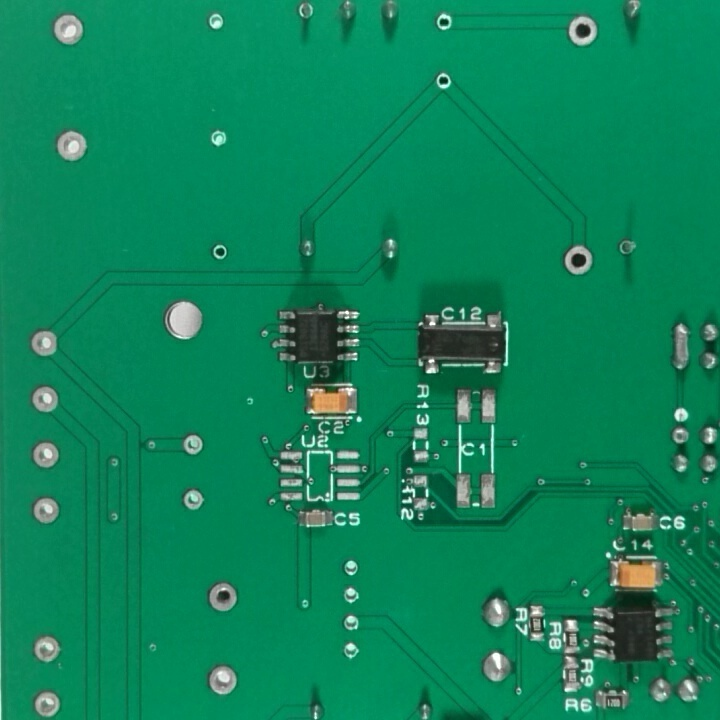F: (203, 659, 244, 700), (559, 243, 599, 281), (50, 9, 88, 48), (29, 630, 67, 668), (53, 126, 92, 163), (27, 382, 63, 420), (562, 14, 601, 49), (28, 438, 65, 474), (206, 578, 241, 616), (26, 328, 64, 360), (30, 495, 63, 529), (34, 686, 66, 718), (179, 485, 207, 515), (179, 431, 206, 460), (670, 423, 693, 452), (204, 11, 228, 37), (205, 128, 232, 150), (294, 1, 321, 23), (340, 584, 364, 608), (615, 235, 638, 260), (340, 610, 363, 635), (432, 69, 455, 93), (209, 240, 230, 265), (341, 639, 362, 663), (433, 14, 456, 34), (341, 557, 361, 580)
P: (667, 318, 694, 378)
